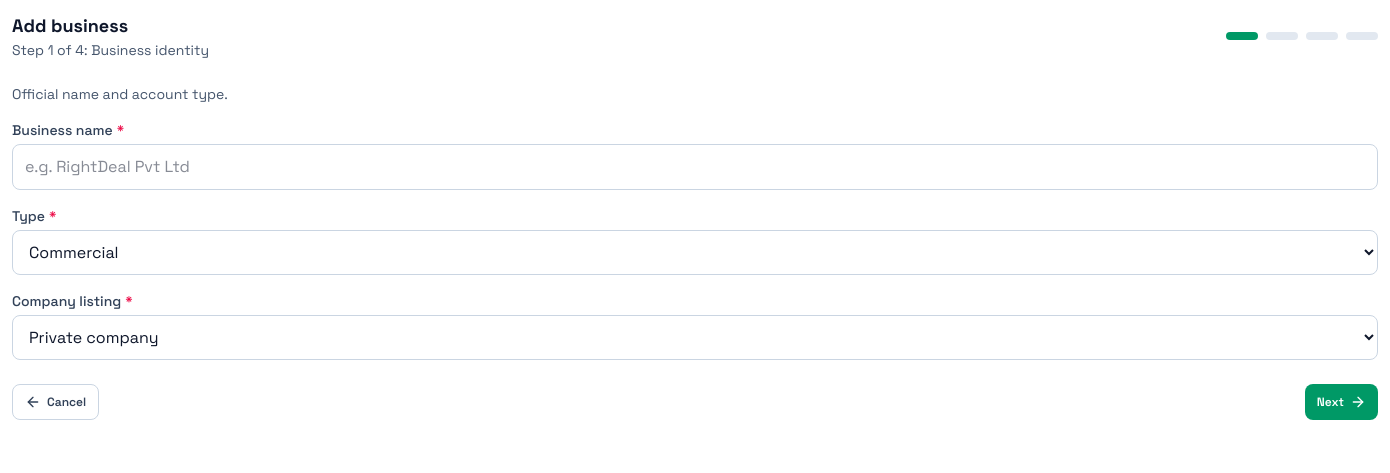
Test: BusinessCreateWizard › Next with invalid step shows step error
Step 1. Click the button "Next" → (1341, 402), box [1305,384,1378,420]
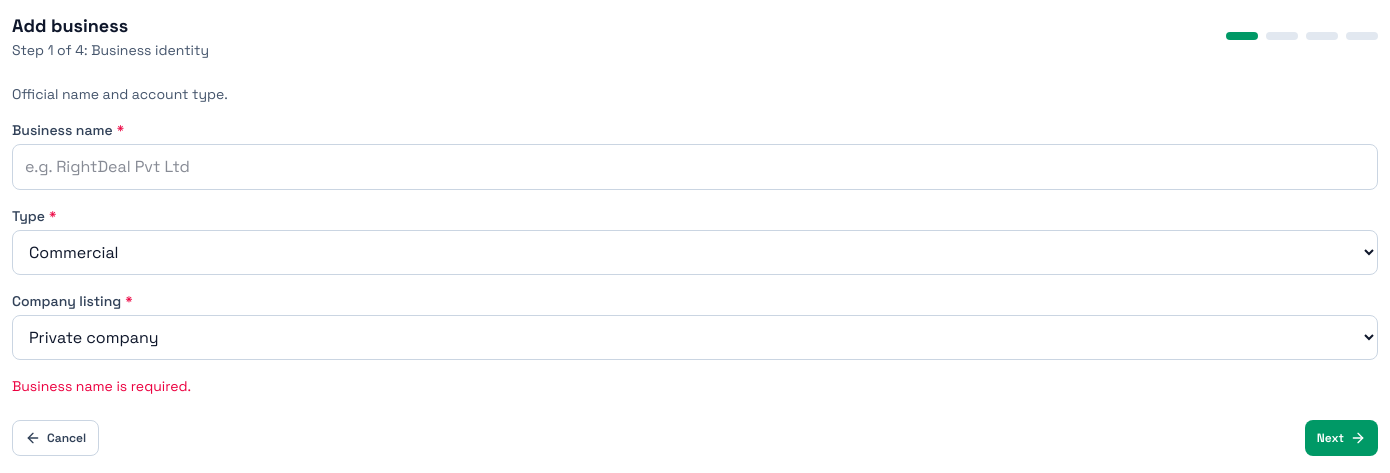
Expected: the text "Business name is required." is shown, [12,377,191,395]
